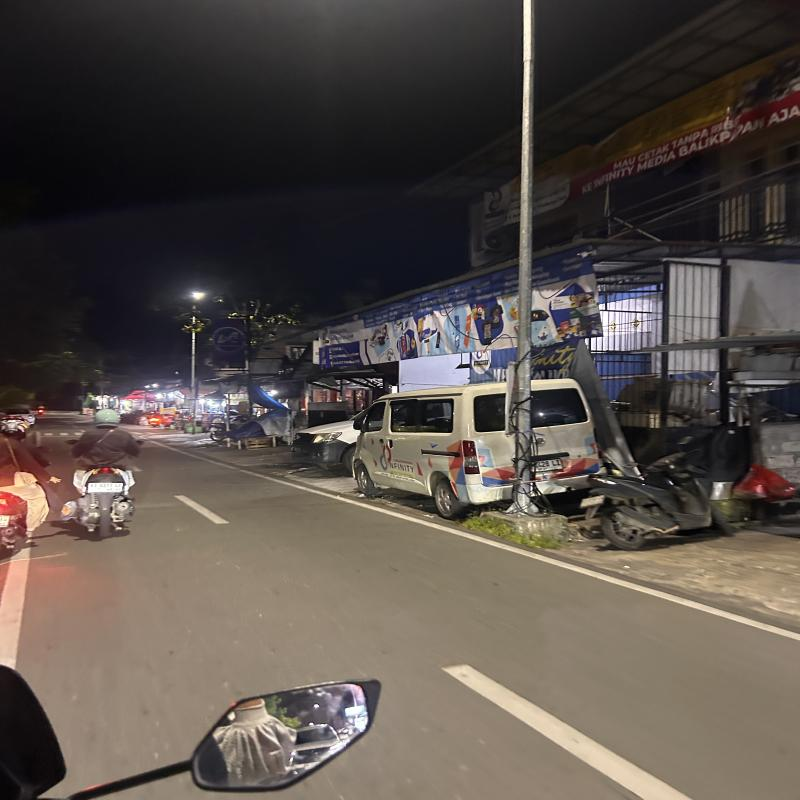license plate on a car: (532, 460, 566, 474)
